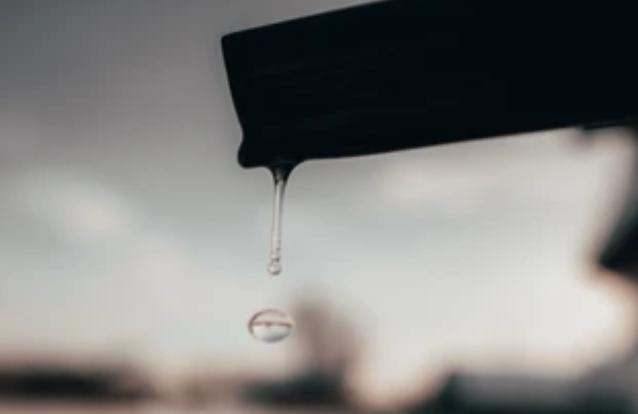water drop: (265, 161, 299, 274), (246, 307, 294, 345)
